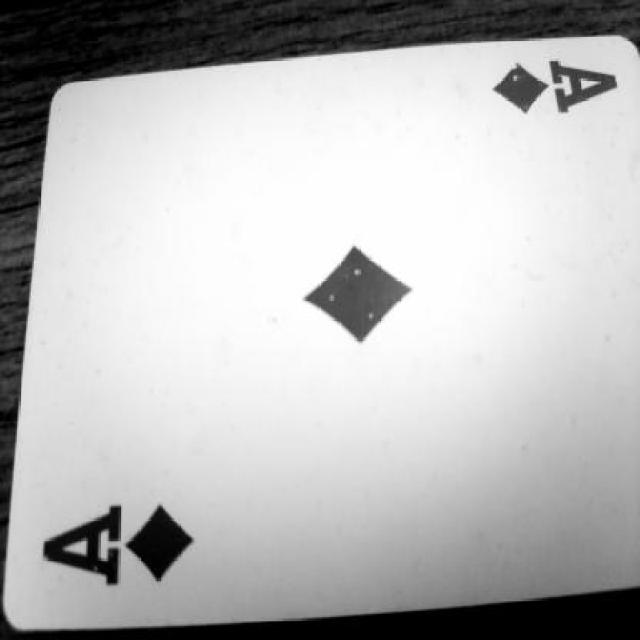AD: (38, 450, 218, 619), (475, 39, 623, 150)
